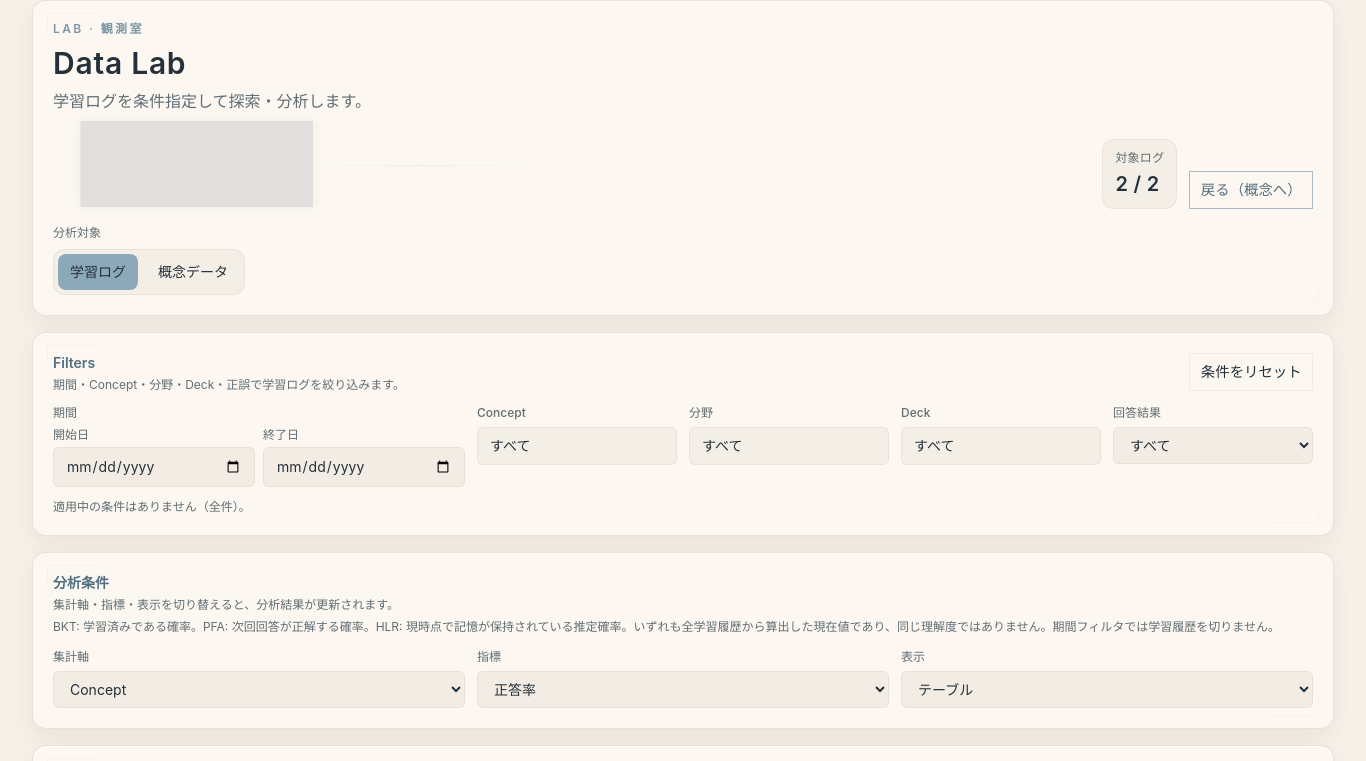
Test: DataLabView (#89 / #90) › 日集計ではログのない日を空期間として補完し、正答率は — になる
This screenshot has width=1366, height=761.
Select "日" in the dropdown labelled "集計軸" at {"x": 259, "y": 689}, box [53,670,465,708]
(page scrolled)
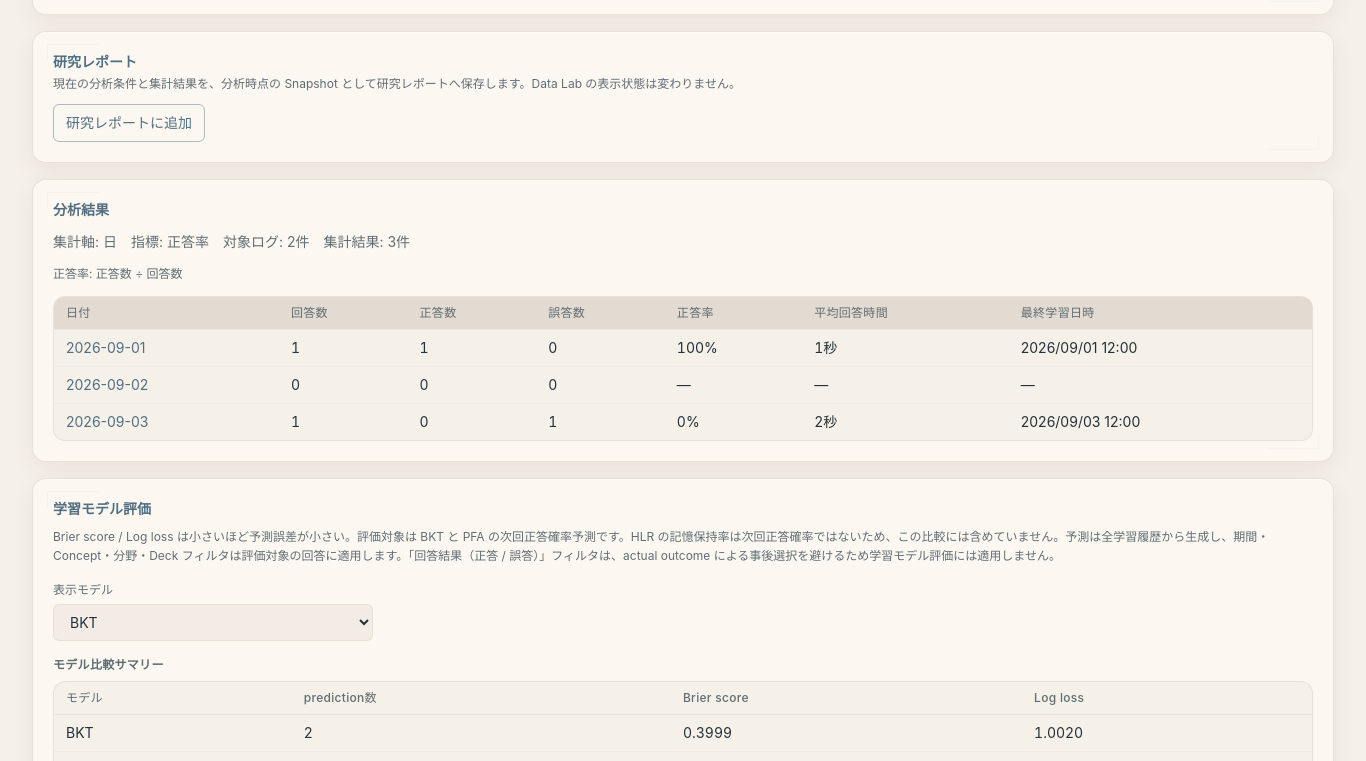
Check: the column heading "2026-09-01" is shown, box [54,329,279,366]
Check: the column heading "2026-09-02" is shown, box [54,366,279,403]
Check: the column heading "2026-09-03" is shown, box [54,403,279,440]
